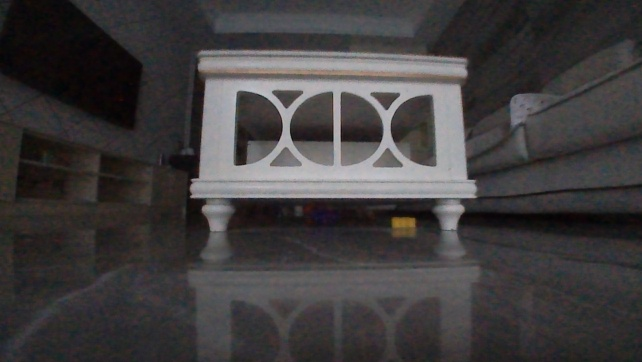TV_stand: (0, 117, 187, 219)
sofe1: (461, 37, 641, 220)
tea_table: (189, 45, 479, 233)
